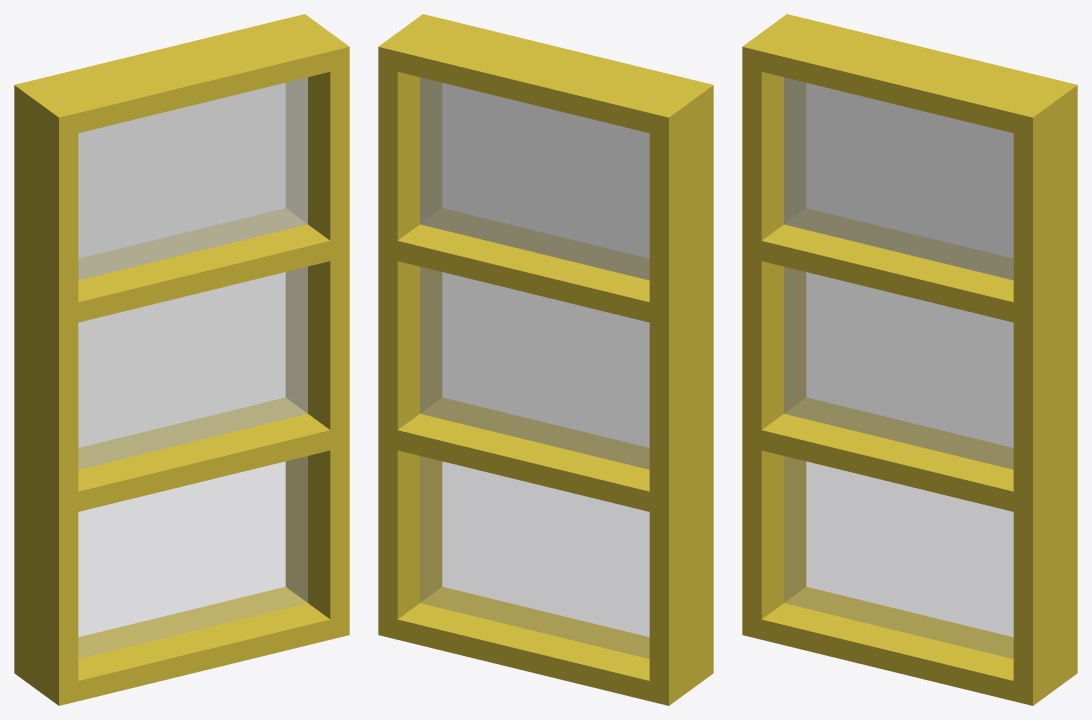
File: window.BaVSMy0k.glb
The picture shows the model from 3 angles, left to right: view 1: azimuth 30°, elevation 25°; view 2: azimuth 150°, elevation 25°; view 3: azimuth 330°, elevation 25°; orthographic projection.
Parts seen in each view (by area): view 1: large_inner, medium_inner, large_base, small_base, medium_base, small_inner; view 2: large_inner, medium_inner, large_base, small_base, small_inner, medium_base; view 3: large_inner, large_base, medium_inner, small_base, medium_base, small_inner.
Boxes of the visible parts, box(x1,y1,x2,y2) form: large_inner: box(78, 77, 307, 658); medium_inner: box(78, 78, 307, 468); large_base: box(14, 49, 349, 705); small_base: box(14, 14, 349, 327); medium_base: box(14, 54, 349, 516); small_inner: box(78, 78, 307, 221); large_inner: box(420, 78, 649, 658); medium_inner: box(420, 78, 649, 469); large_base: box(378, 49, 713, 705); small_base: box(378, 14, 713, 326); small_inner: box(420, 77, 649, 279); medium_base: box(378, 49, 713, 516); large_inner: box(784, 77, 1013, 658); large_base: box(742, 49, 1077, 705); medium_inner: box(784, 77, 1013, 468); small_base: box(742, 14, 1077, 322); medium_base: box(742, 47, 1077, 515); small_inner: box(784, 78, 1013, 270).
Bounding box in the file's own units: 0.75 × 1.45 × 0.2.
